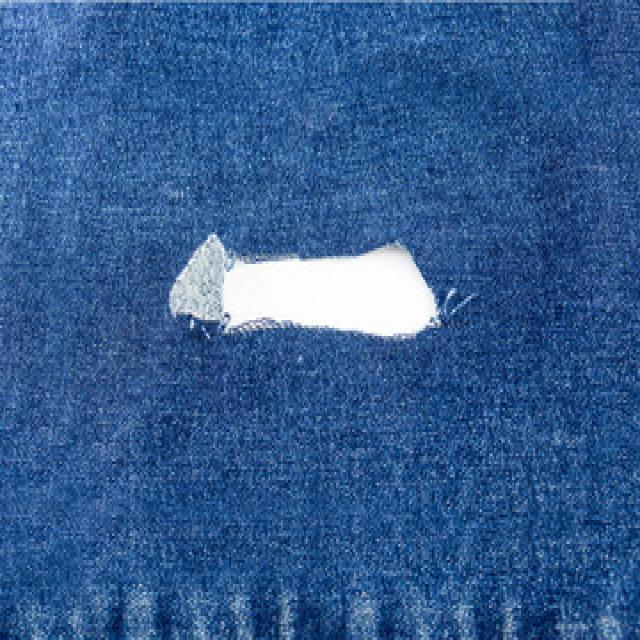Hole: (169, 234, 442, 338)
